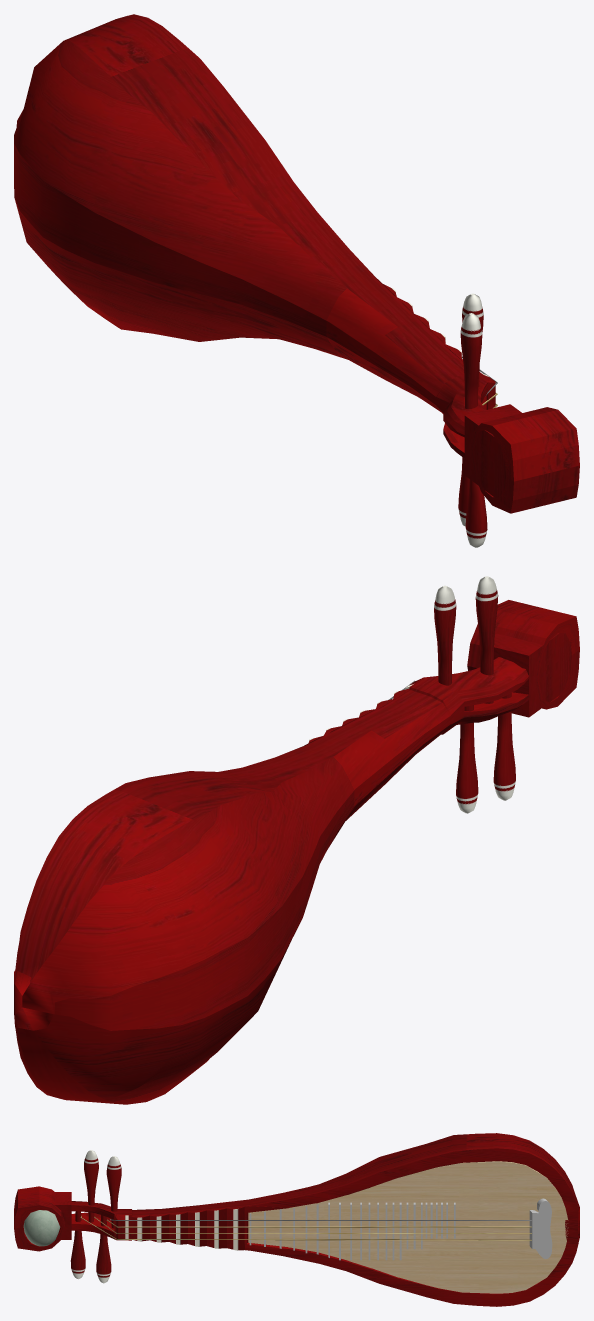
Rendered from pipa_big 1.fbx.
3 views of the same model, one above another, from view 1: azimuth 30°, elevation 25°; view 2: azimuth 150°, elevation 25°; view 3: azimuth 270°, elevation 25° (orthographic). The views are drawn at different scales.
Parts seen in each view (by area): view 1: pCube1, pPipe1, pCube31, pCylinder14, pCylinder4; view 2: pCube1, pPipe1, pCube31, pCylinder14, pCylinder15, pCylinder13, pCylinder4; view 3: pCube2, pCube1, pPipe1, polySurface1, pSphere1, pCylinder7, pCylinder5, pCylinder14, pCylinder15, pCube29, pCylinder4, pCylinder13 (+10 smaller).
Part boxes in pixels (x1,y1,x2,y2): pCube1: (14, 14, 489, 458); pPipe1: (470, 407, 579, 513); pCube31: (464, 404, 521, 508); pCylinder14: (460, 313, 482, 409); pCylinder4: (465, 479, 487, 547); pCube1: (14, 657, 528, 1104); pPipe1: (467, 600, 579, 709); pCube31: (493, 630, 576, 717); pCylinder14: (475, 576, 498, 703); pCylinder15: (434, 585, 456, 685); pCylinder13: (456, 705, 478, 813); pCylinder4: (493, 693, 515, 800); pCube2: (248, 1161, 568, 1293); pCube1: (71, 1133, 579, 1306); pPipe1: (14, 1186, 64, 1251); polySurface1: (529, 1198, 552, 1258); pSphere1: (23, 1210, 60, 1246); pCylinder7: (107, 1219, 531, 1227); pCylinder5: (80, 1216, 531, 1240); pCylinder14: (84, 1150, 98, 1222); pCylinder15: (106, 1156, 121, 1228); pCube29: (227, 1207, 248, 1250); pCylinder4: (70, 1211, 85, 1279); pCylinder13: (96, 1215, 111, 1283).
Bounding box in the file's own units: 21.79 × 37.8 × 122.
